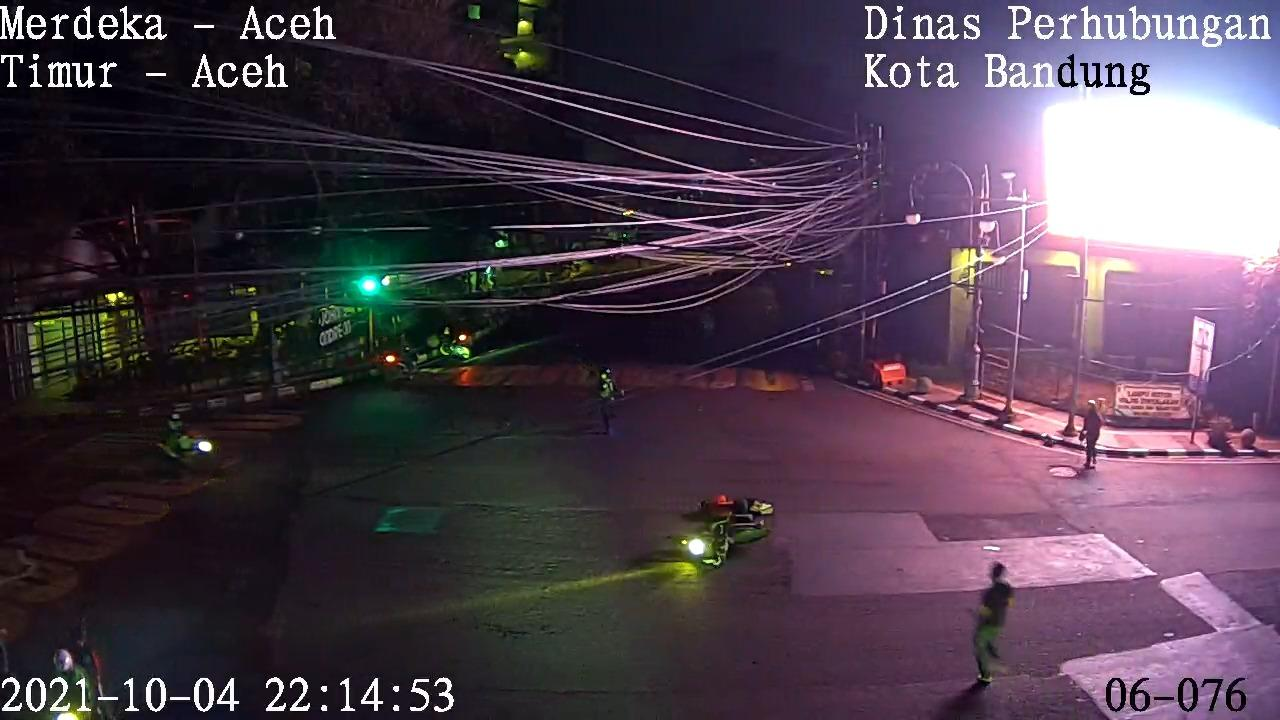accident: (680, 486, 784, 528)
